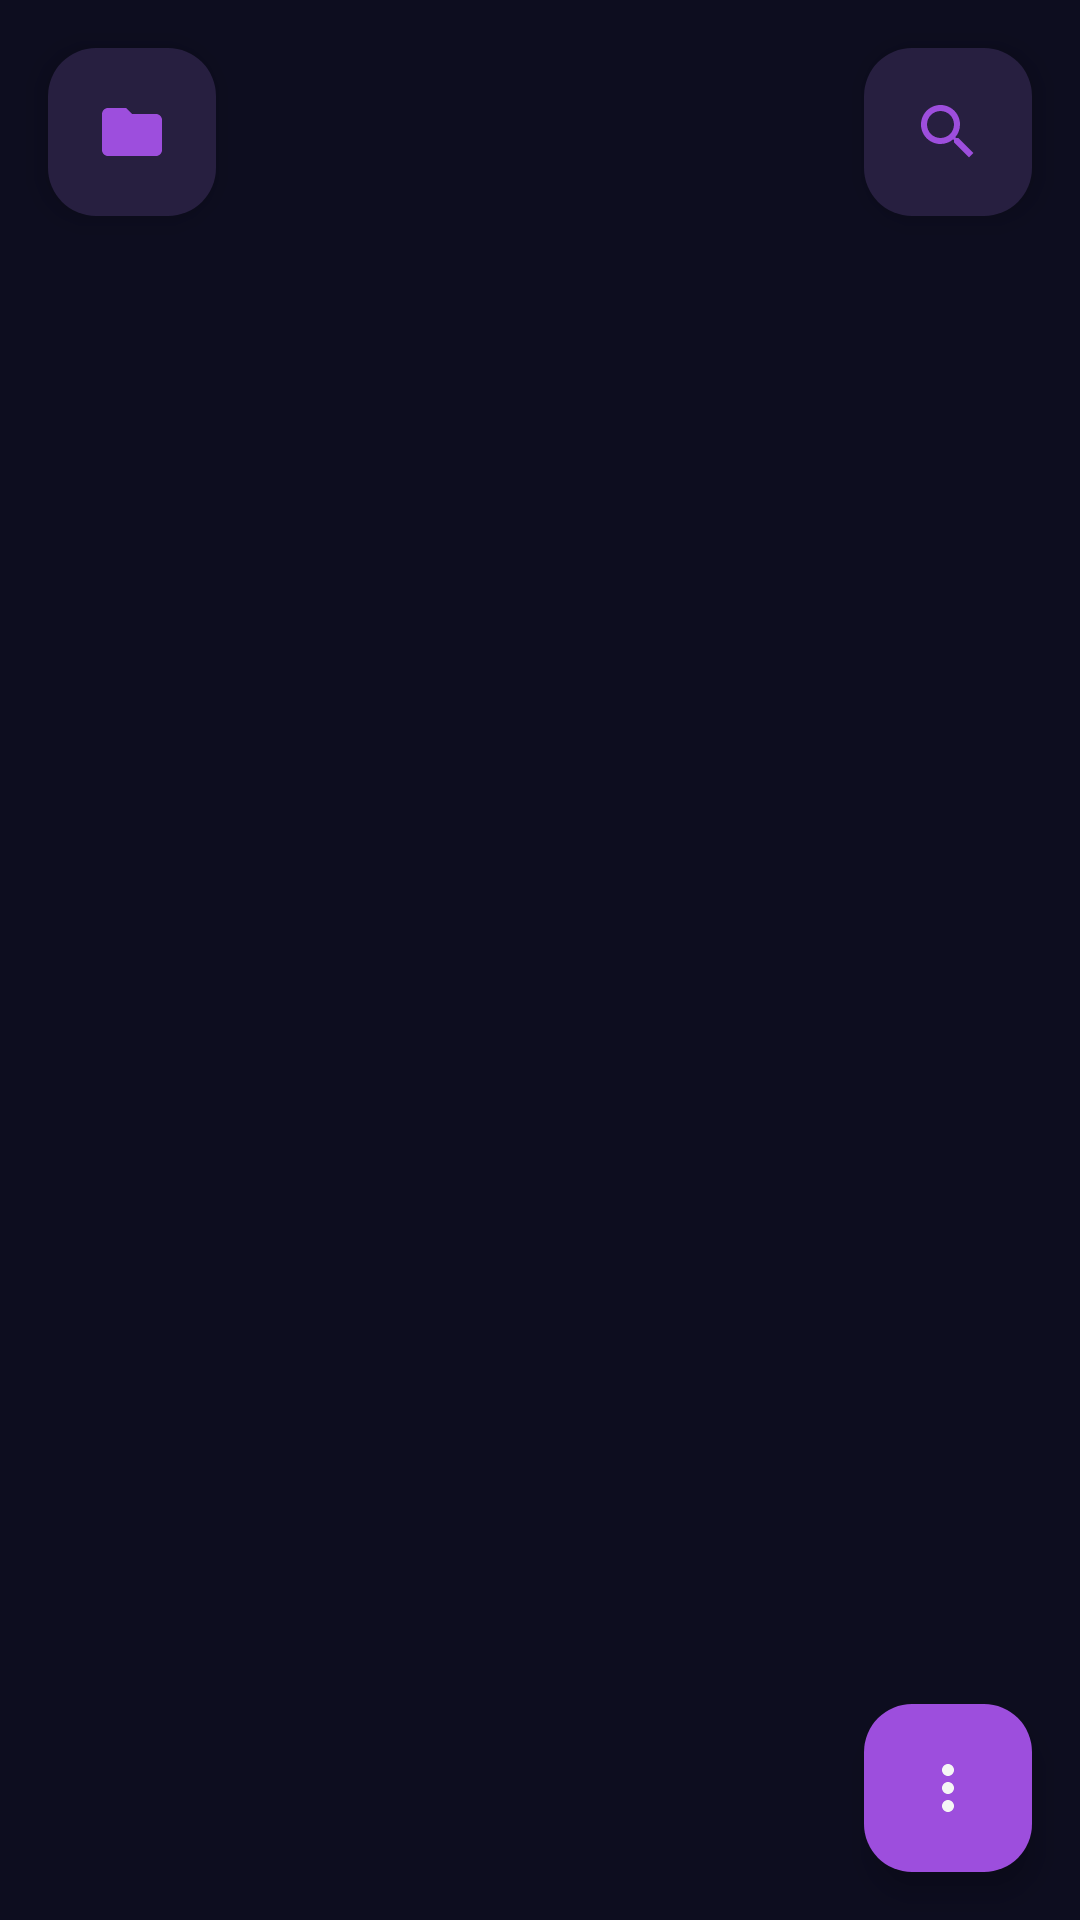

Icons on this 1080px x 1920px Android screen, each with its box as (x1, y1, x2, y2):
Buscar: (864, 48, 1032, 216)
folder: (48, 48, 216, 216)
more vert: (864, 1704, 1032, 1872)
